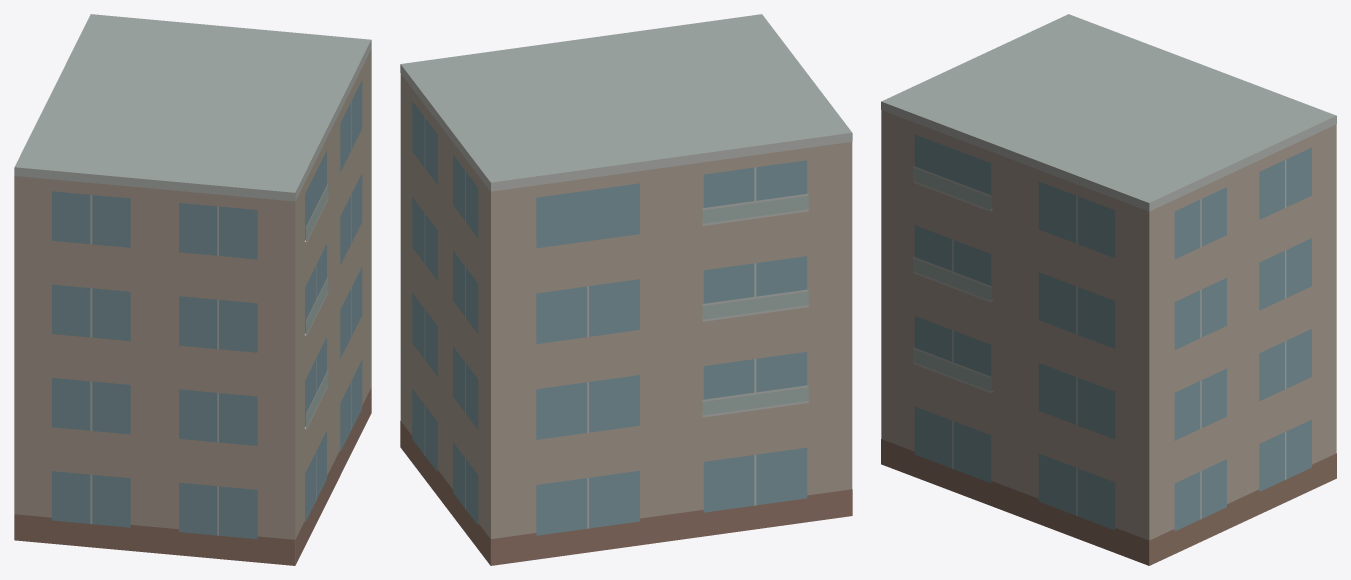
Rendered from survey-upis-33045455.glb.
3 renders of one model, left to right at view 1: azimuth 30°, elevation 25°; view 2: azimuth 150°, elevation 25°; view 3: azimuth 270°, elevation 25°, orthographic. The views are drawn at different scales.
Parts seen in each view (by area): view 1: survey-upis-33045455.tmp; view 2: survey-upis-33045455.tmp; view 3: survey-upis-33045455.tmp.
Boxes of the visible parts, x1,y1,x2,y2 form: survey-upis-33045455.tmp: [14, 14, 371, 565]; survey-upis-33045455.tmp: [400, 14, 852, 565]; survey-upis-33045455.tmp: [881, 14, 1336, 565].
Bounding box in the file's own units: 11.64 × 10.4 × 11.85.
